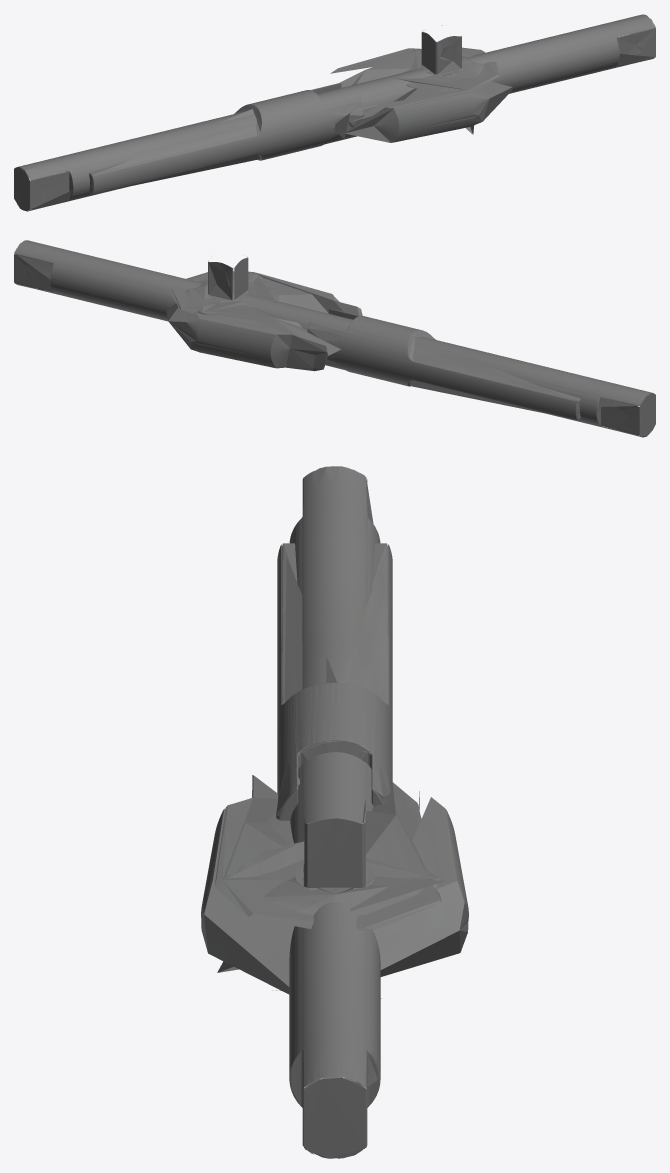
File: handTool_ratchet_a01.glb
The picture shows the model from 3 angles, top to bottom: view 1: azimuth 30°, elevation 25°; view 2: azimuth 150°, elevation 25°; view 3: azimuth 270°, elevation 25°; orthographic projection. The views are drawn at different scales.
Visible parts, largest first — view 1: geometry_0; view 2: geometry_0; view 3: geometry_0.
Boxes of the visible parts, x1,y1,x2,y2 form: geometry_0: (14,14,655,211); geometry_0: (14,240,655,437); geometry_0: (201,466,468,1158).
Bounding box in the file's own units: 0.42 × 0.0531 × 0.0777.
1 material, 1 textured.
